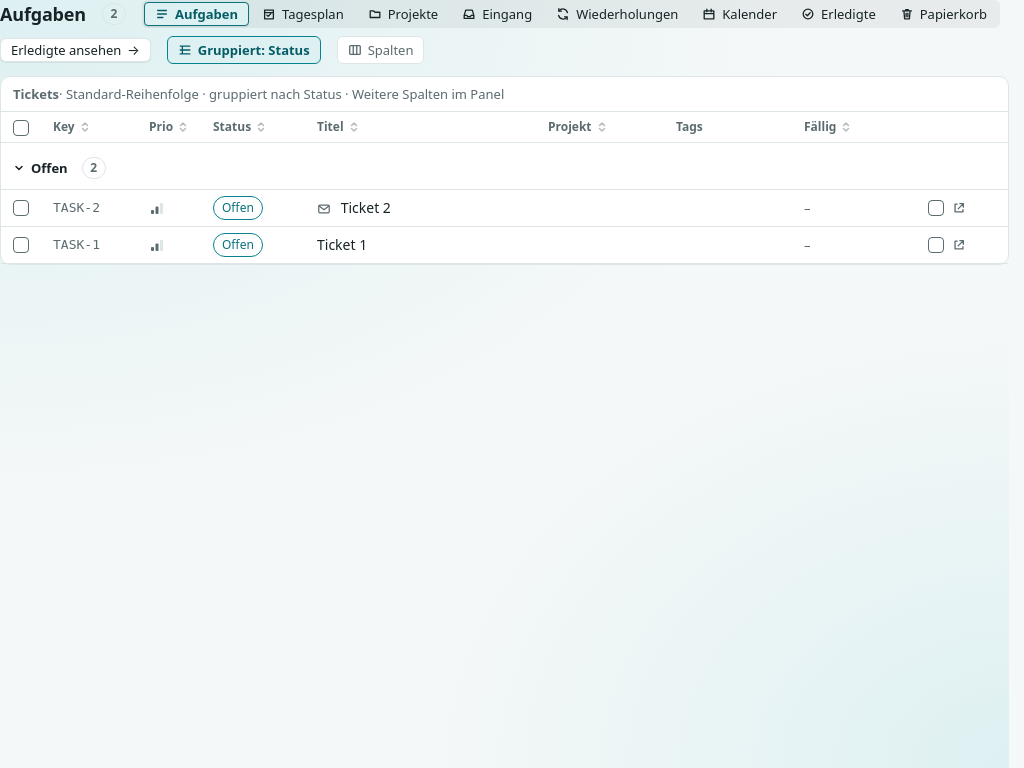
menu "Spalten" (ADR-0030) › is a popover panel named "Sichtbare Spalten" with a checkbox per optional column
Step 1. Click the button "Spalten" → (380, 50), box [337, 36, 424, 64]
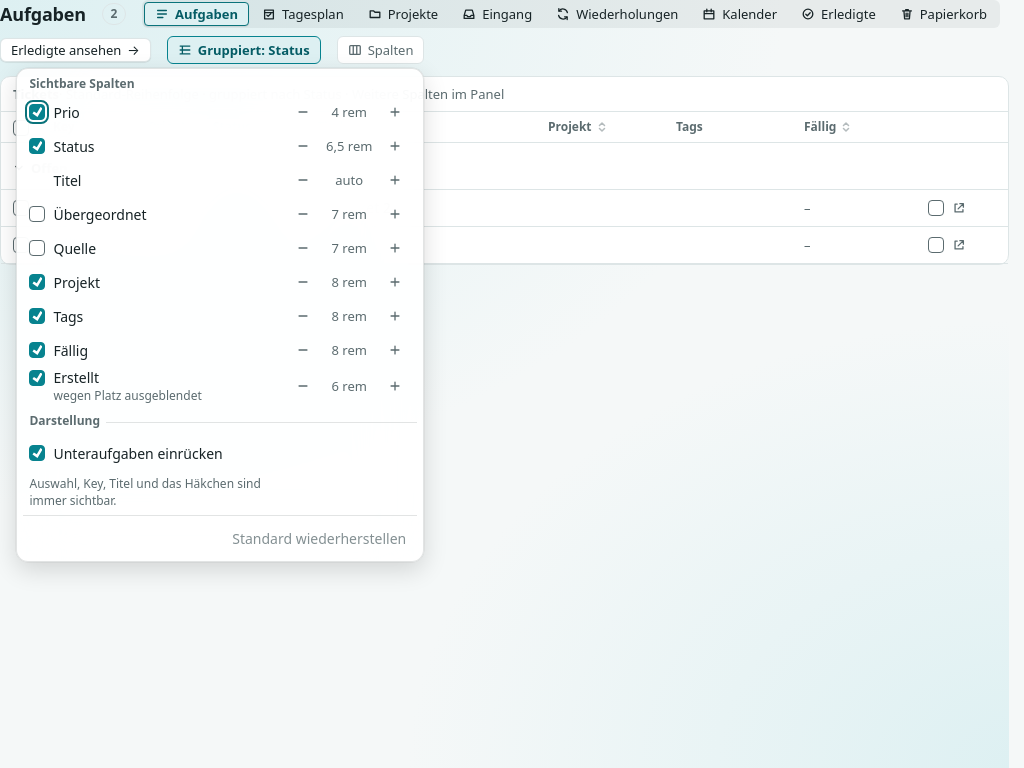
expect the element "Darstellung" is shown: met, box [24, 412, 417, 467]
